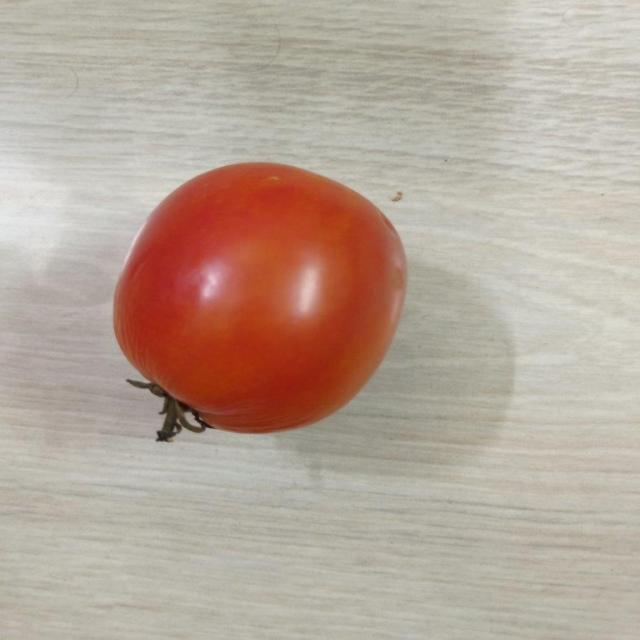Tomato: (108, 156, 414, 446)
